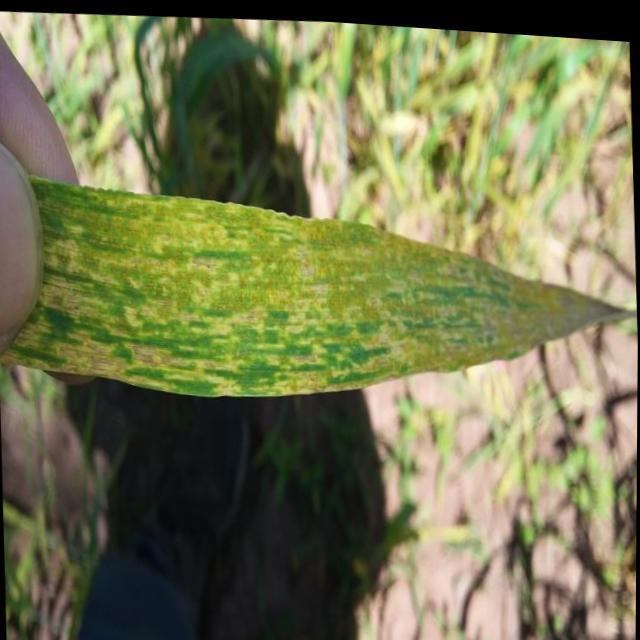Septoria: (0, 177, 636, 397)
